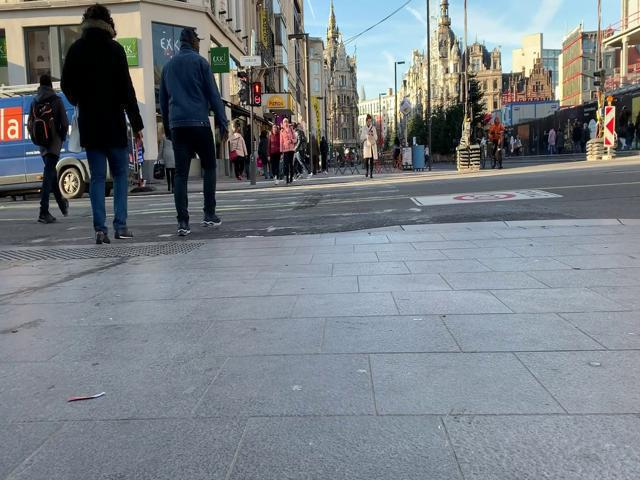shoe: (37, 211, 56, 224), (202, 215, 222, 227), (115, 228, 134, 239), (95, 231, 111, 244), (177, 224, 191, 236)
